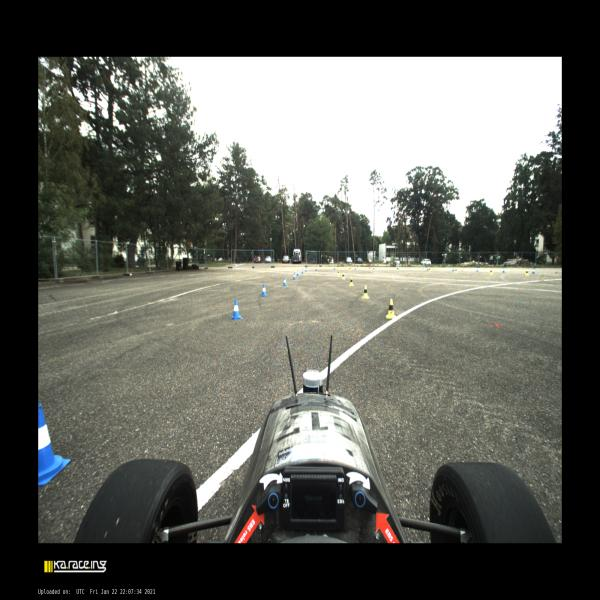blue_cone: (38, 405, 70, 487), (230, 299, 243, 320), (260, 284, 268, 296), (282, 278, 287, 286), (293, 272, 296, 280), (532, 268, 536, 274), (502, 267, 505, 273), (452, 266, 455, 272), (301, 269, 304, 274), (297, 270, 299, 276), (476, 266, 478, 272), (305, 267, 307, 272), (334, 266, 336, 270), (315, 267, 317, 271), (373, 266, 375, 270), (427, 267, 429, 270), (355, 266, 356, 270), (398, 266, 399, 270)
yellow_cone: (386, 298, 396, 318), (362, 285, 369, 299), (349, 277, 354, 286), (525, 268, 529, 276), (342, 273, 345, 280), (489, 269, 493, 274), (337, 270, 340, 276), (455, 267, 457, 273), (428, 267, 430, 272), (396, 266, 398, 271), (349, 267, 351, 271), (369, 266, 371, 270)
